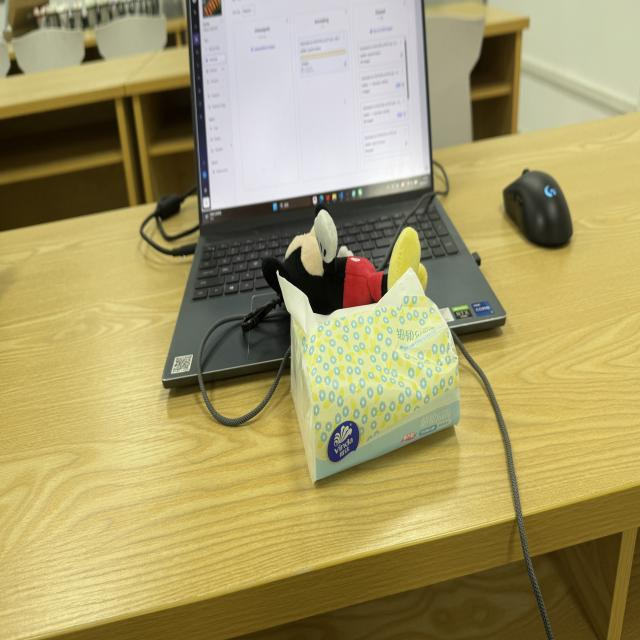mickey: (262, 205, 427, 314)
tissue: (278, 267, 460, 483)
